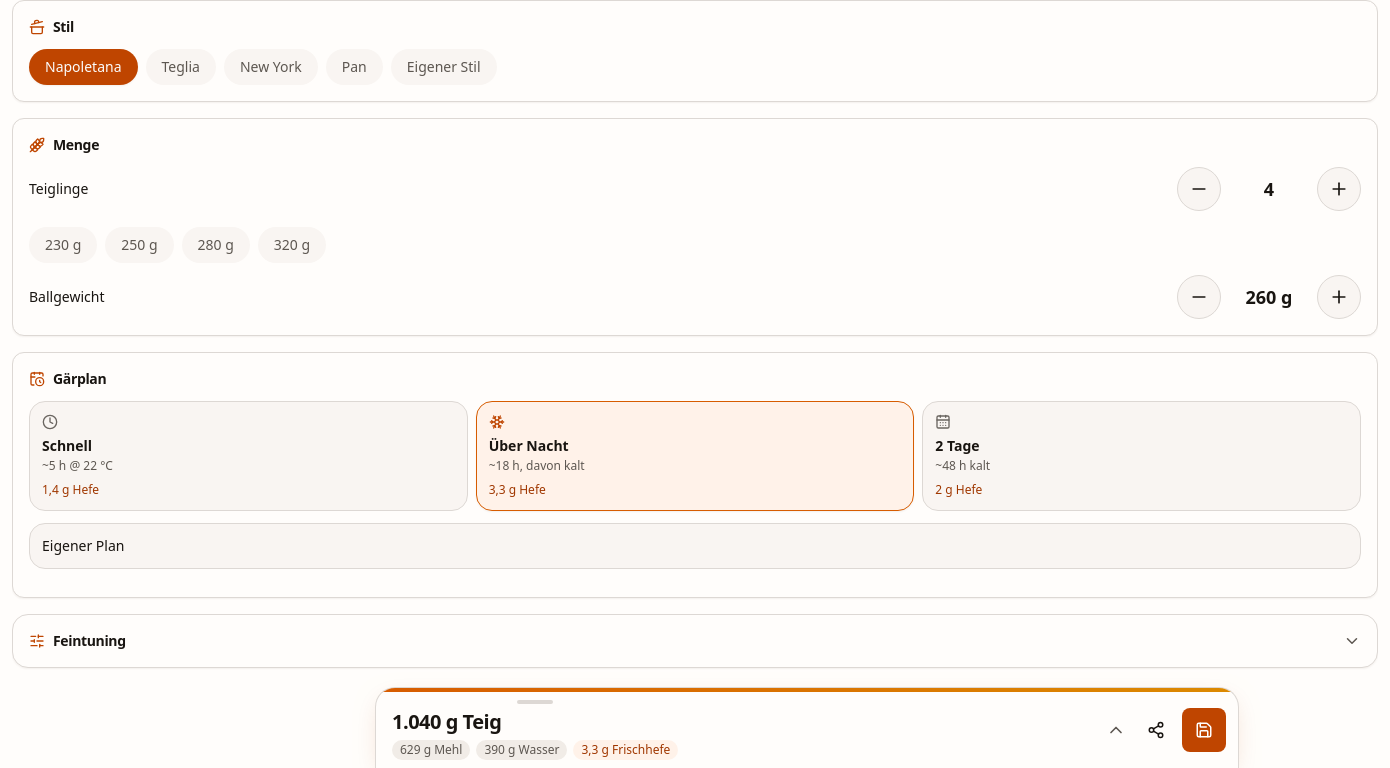
Scenario: CalculatorPage › increments the ball count via the stepper
Step 1. Click the button named "Teiglinge erhöhen" → [1339, 189], box 1317,167 -> 1361,211
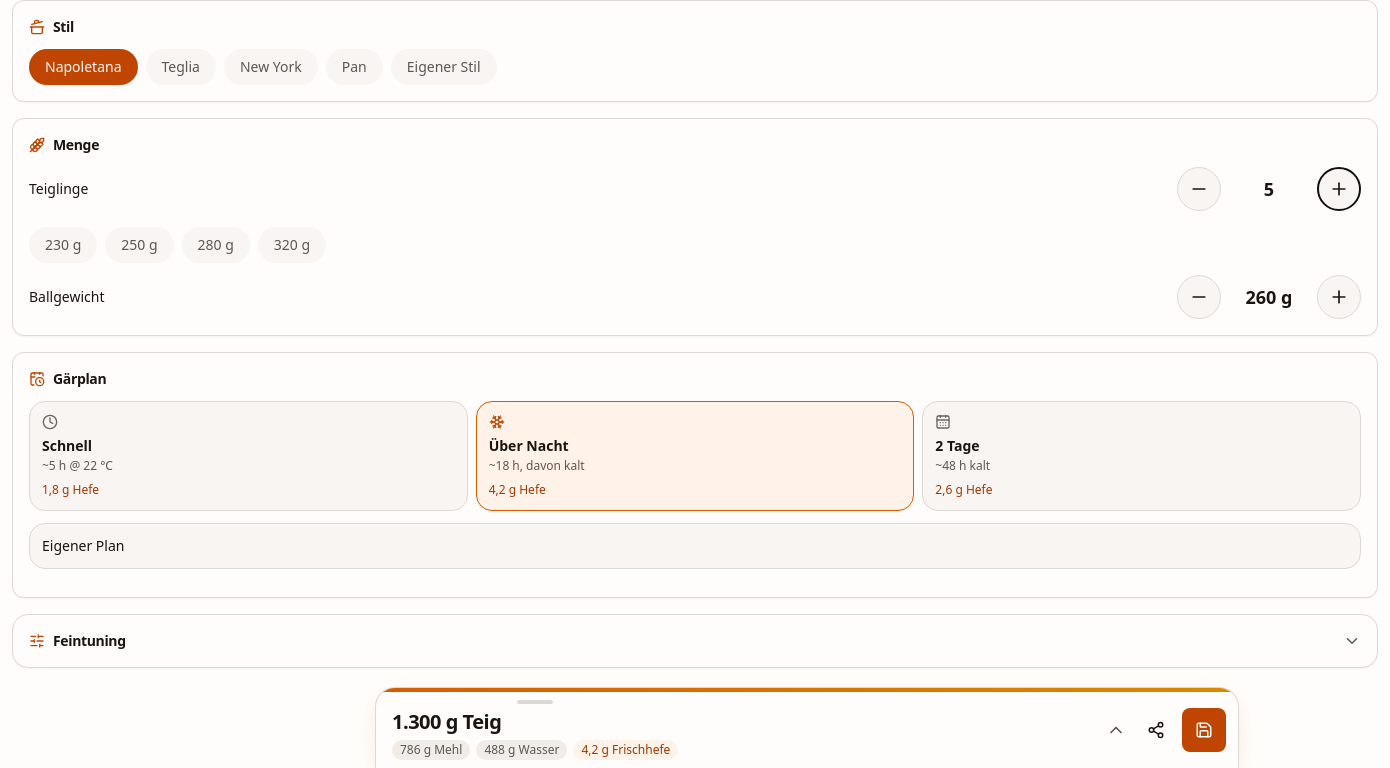
Now the text "1.300 g Teig" is shown, box 392,708 -> 501,736
